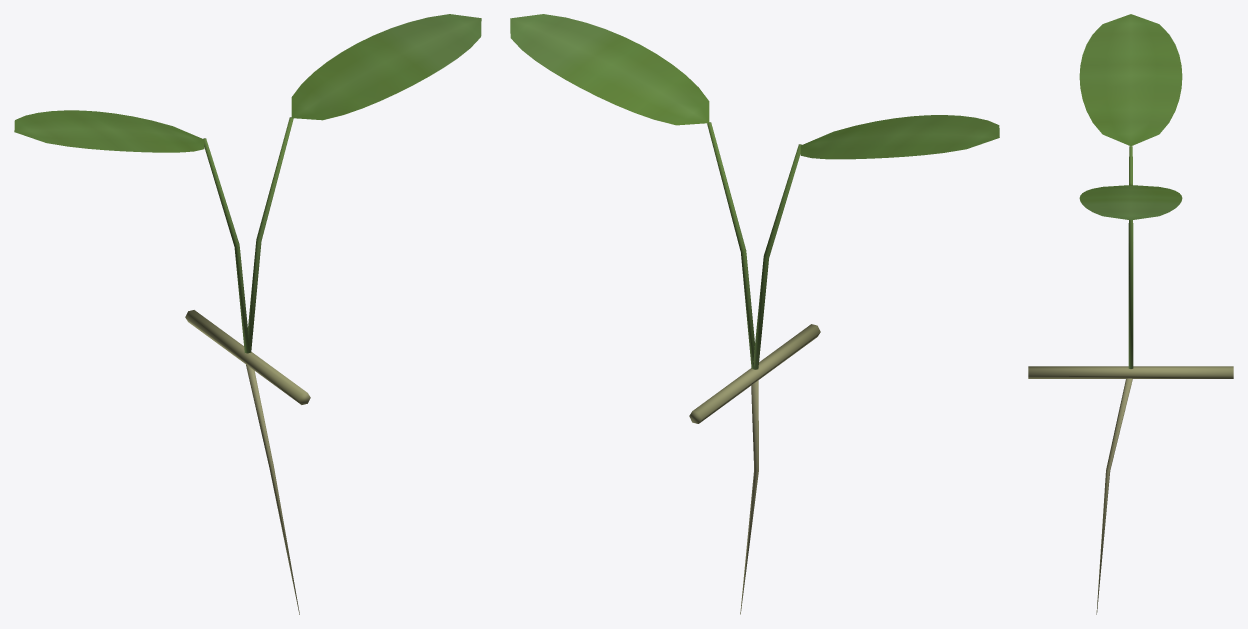
File: halophila_ovalis_shoot_hybrid.glb
3 renders of one model, left to right at view 1: azimuth 30°, elevation 25°; view 2: azimuth 150°, elevation 25°; view 3: azimuth 270°, elevation 25°, orthographic. The views are drawn at different scales.
Parts seen in each view (by area): view 1: HalophilaShoot; view 2: HalophilaShoot; view 3: HalophilaShoot.
Part boxes in pixels (left/top/right/bottom): HalophilaShoot: left=14, top=14, right=481, bottom=614; HalophilaShoot: left=510, top=14, right=999, bottom=614; HalophilaShoot: left=1028, top=14, right=1233, bottom=614.
Bounding box in the file's own units: 0.0428 × 0.0467 × 0.018.
